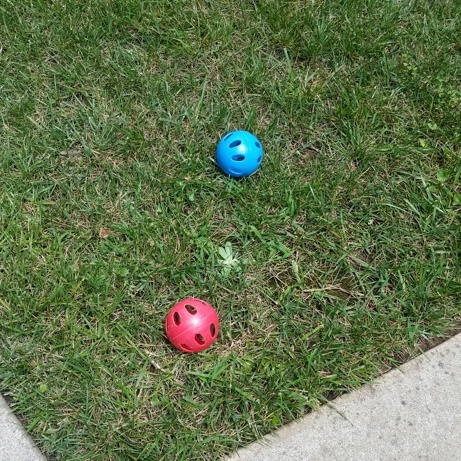ball: (162, 294, 223, 354), (212, 127, 268, 181)
